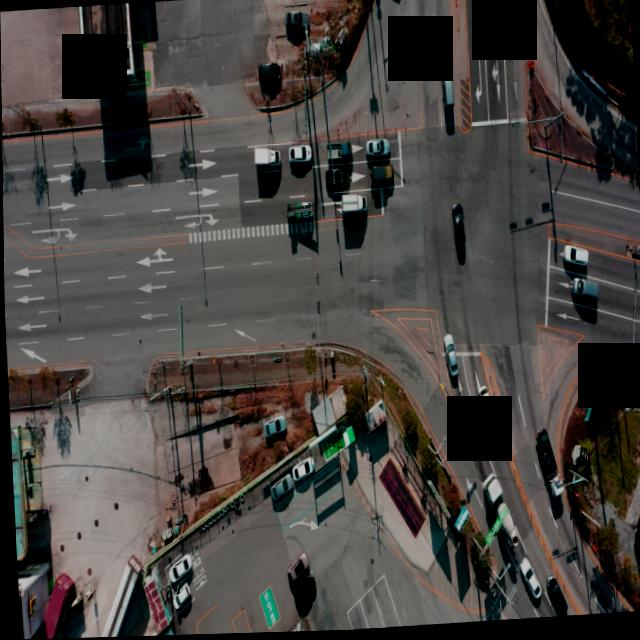car: (518, 559, 540, 602), (543, 578, 564, 618), (292, 578, 314, 614), (284, 5, 309, 33), (455, 400, 472, 441), (571, 280, 598, 305), (165, 556, 188, 585), (285, 555, 306, 585), (562, 247, 587, 271), (441, 336, 455, 378), (269, 478, 292, 503), (170, 583, 190, 611), (289, 458, 312, 482), (257, 62, 281, 82), (472, 0, 486, 34), (442, 69, 453, 111), (263, 418, 286, 438), (452, 206, 463, 247), (368, 166, 393, 184), (286, 145, 309, 164), (326, 172, 349, 191), (364, 140, 387, 158)
medium_truck: (93, 558, 139, 638), (481, 472, 517, 550), (535, 430, 562, 504)
small_truck: (474, 388, 494, 437), (251, 149, 279, 170), (339, 196, 366, 216), (285, 201, 312, 221), (327, 146, 353, 164)
